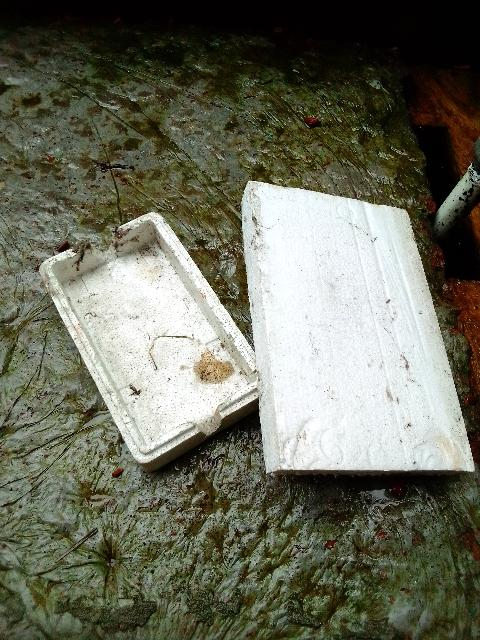cocksheet: (39, 161, 480, 486)
